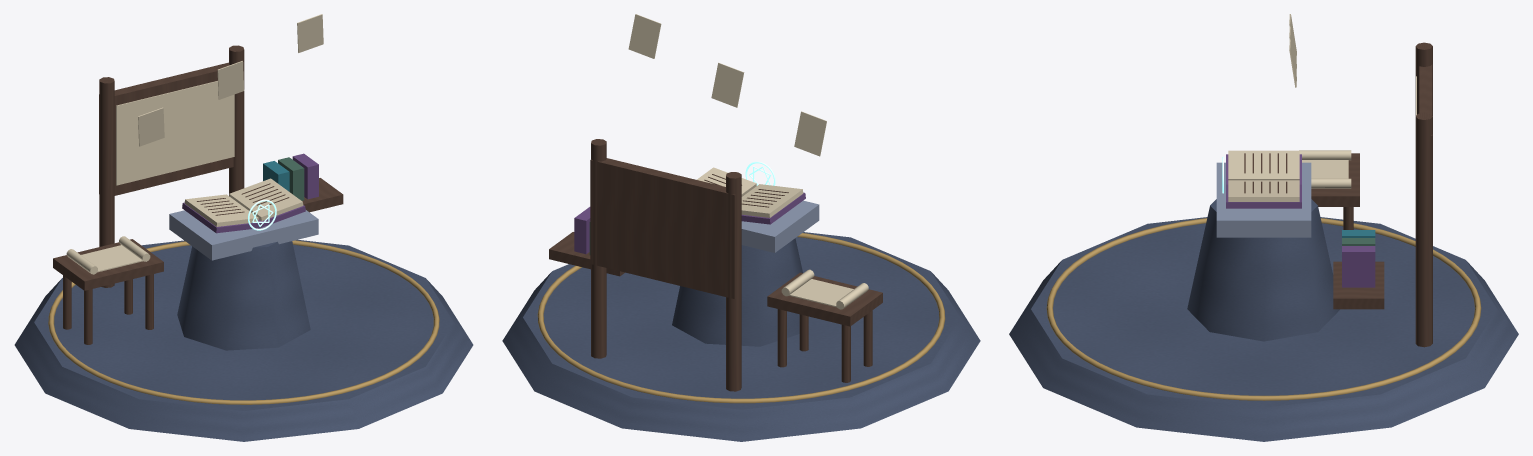
Rendered from about-interaction-assets.glb.
3 renders of one model, left to right at view 1: azimuth 30°, elevation 25°; view 2: azimuth 150°, elevation 25°; view 3: azimuth 270°, elevation 25°, orthographic. The views are drawn at different scales.
Visible parts, largest first — view 1: ForestStoryPlatform_stone, ForestStoryPlatform_wood, ForestStoryPlatform_paper, ForestStoryPlatform_gold, ForestStoryPlatform_edge, BiographyBook_paper, BiographyBook_violet, FloatingStoryPage_0_paper, FloatingStoryPage_2_paper, FloatingStoryPage_1_paper, ForestStoryPlatform_violet, ForestStoryPlatform_green (+2 smaller); view 2: ForestStoryPlatform_stone, ForestStoryPlatform_wood, ForestStoryPlatform_gold, ForestStoryPlatform_edge, BiographyBook_paper, ForestStoryPlatform_paper, FloatingStoryPage_0_paper, FloatingStoryPage_1_paper, FloatingStoryPage_2_paper, ForestStoryPlatform_violet, BiographyBook_violet; view 3: ForestStoryPlatform_stone, ForestStoryPlatform_wood, ForestStoryPlatform_gold, ForestStoryPlatform_edge, BiographyBook_paper, ForestStoryPlatform_paper, ForestStoryPlatform_violet, BiographyBook_violet.
Boxes of the visible parts, bbox=[...] form: ForestStoryPlatform_stone: bbox=[14, 239, 473, 441]; ForestStoryPlatform_wood: bbox=[53, 45, 343, 344]; ForestStoryPlatform_paper: bbox=[66, 81, 234, 274]; ForestStoryPlatform_gold: bbox=[48, 240, 439, 404]; ForestStoryPlatform_edge: bbox=[169, 210, 318, 260]; BiographyBook_paper: bbox=[184, 178, 303, 226]; BiographyBook_violet: bbox=[182, 202, 305, 233]; FloatingStoryPage_0_paper: bbox=[138, 107, 164, 146]; FloatingStoryPage_2_paper: bbox=[297, 14, 323, 52]; FloatingStoryPage_1_paper: bbox=[217, 61, 244, 99]; ForestStoryPlatform_violet: bbox=[292, 153, 318, 199]; ForestStoryPlatform_green: bbox=[278, 157, 304, 200]; ForestStoryPlatform_stone: bbox=[502, 232, 980, 441]; ForestStoryPlatform_wood: bbox=[549, 139, 882, 391]; ForestStoryPlatform_gold: bbox=[537, 233, 945, 403]; ForestStoryPlatform_edge: bbox=[741, 200, 819, 252]; BiographyBook_paper: bbox=[696, 167, 803, 217]; ForestStoryPlatform_paper: bbox=[781, 269, 868, 309]; FloatingStoryPage_0_paper: bbox=[794, 111, 826, 156]; FloatingStoryPage_1_paper: bbox=[711, 62, 744, 107]; FloatingStoryPage_2_paper: bbox=[628, 14, 661, 58]; ForestStoryPlatform_violet: bbox=[574, 207, 590, 254]; BiographyBook_violet: bbox=[741, 192, 805, 224]; ForestStoryPlatform_stone: bbox=[1009, 199, 1518, 441]; ForestStoryPlatform_wood: bbox=[1311, 42, 1432, 347]; ForestStoryPlatform_gold: bbox=[1046, 218, 1481, 400]; ForestStoryPlatform_edge: bbox=[1216, 162, 1311, 237]; BiographyBook_paper: bbox=[1228, 150, 1299, 201]; ForestStoryPlatform_paper: bbox=[1299, 76, 1416, 188]; ForestStoryPlatform_violet: bbox=[1342, 246, 1375, 287]; BiographyBook_violet: bbox=[1226, 154, 1301, 208].
Bounding box in the file's own units: 3.5 × 2.53 × 3.5.
9 materials, 2 textured.
